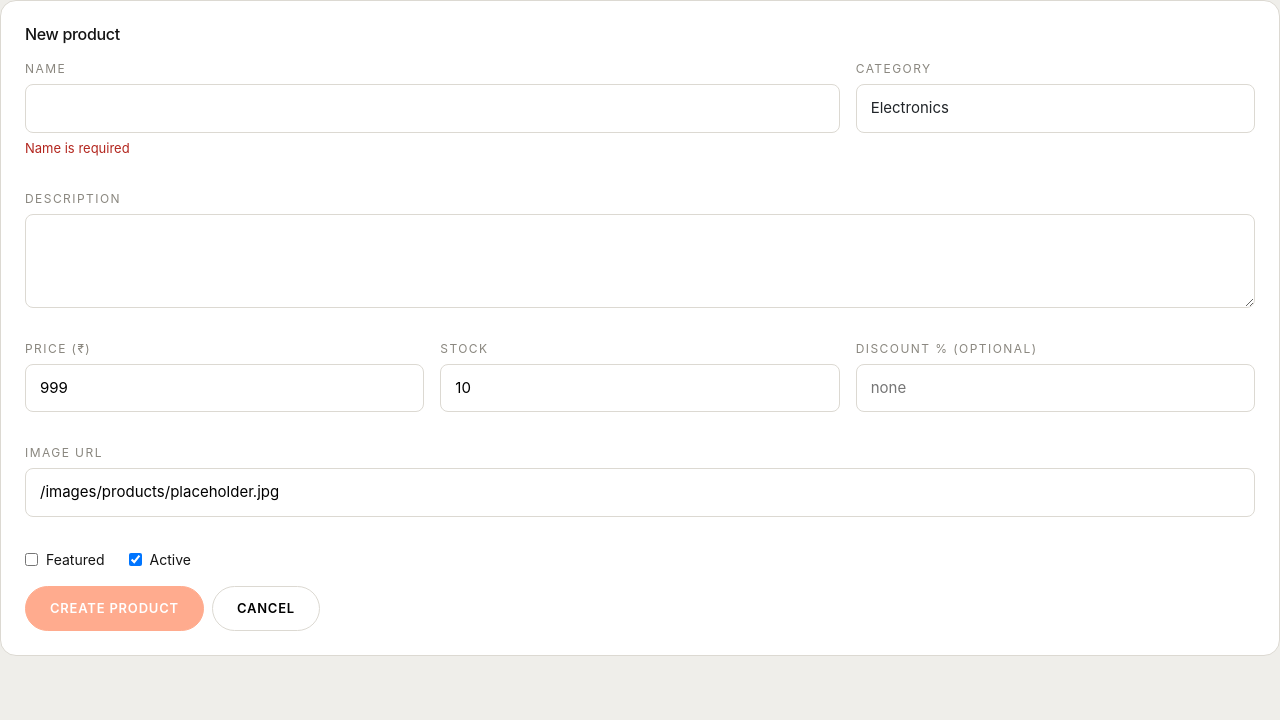
Test: AdminProductForm › rejects a non-positive price
This screenshot has width=1280, height=720.
Type "Thing" into the field labelled "Name" at (432, 108), box 25,84 -> 840,133
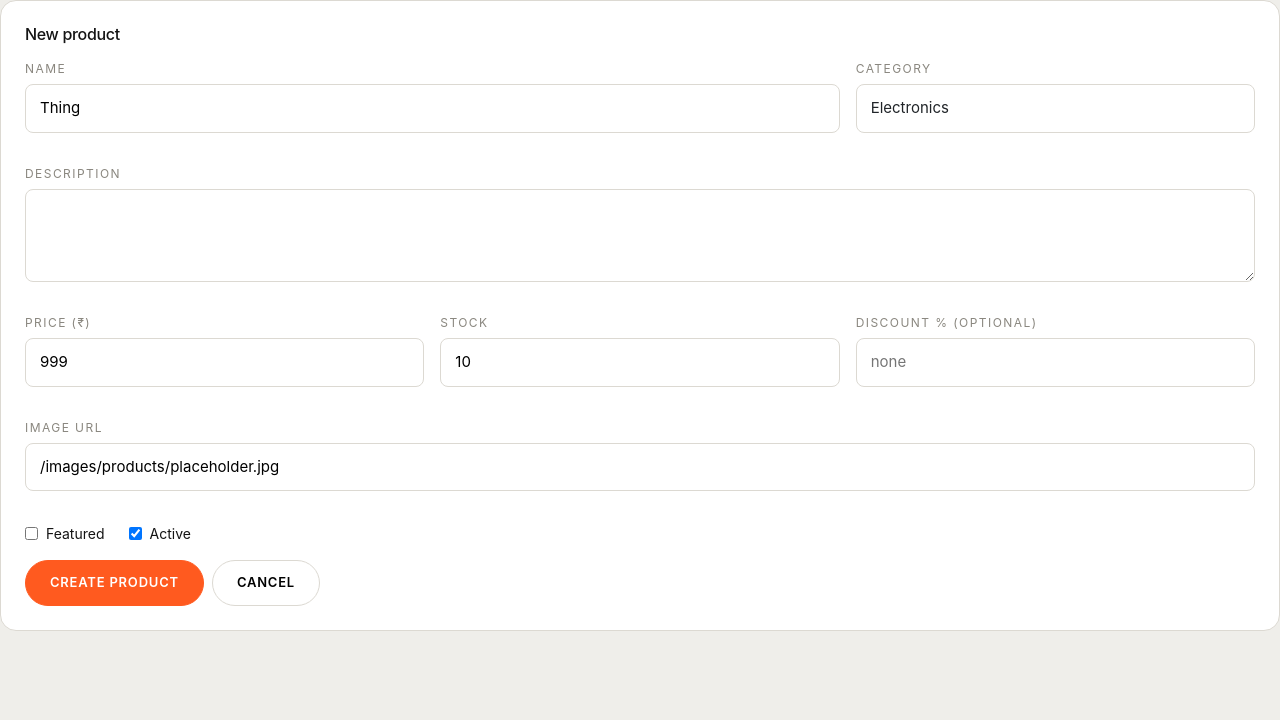
Replace the text in the number field labelled "Price (₹)" with "0" at (225, 362), box 25,338 -> 424,387
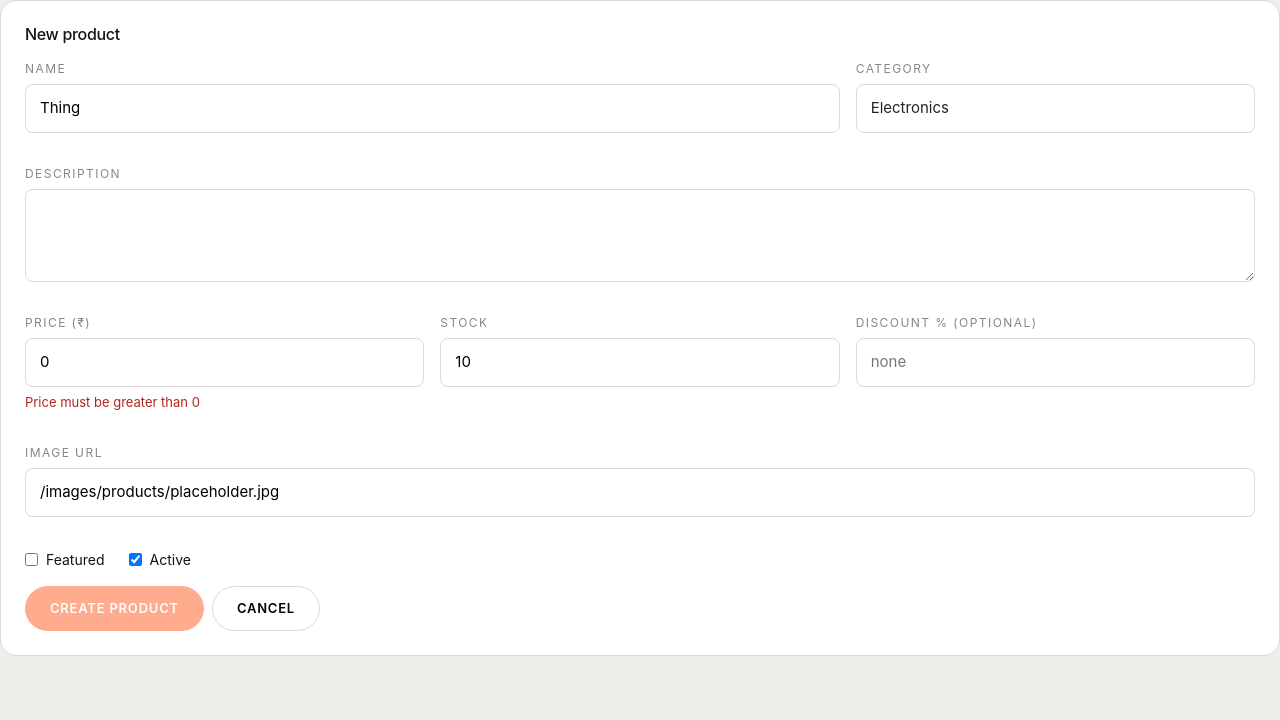
Result: the text "Price must be greater than 0" is shown at 25,394 -> 200,410
